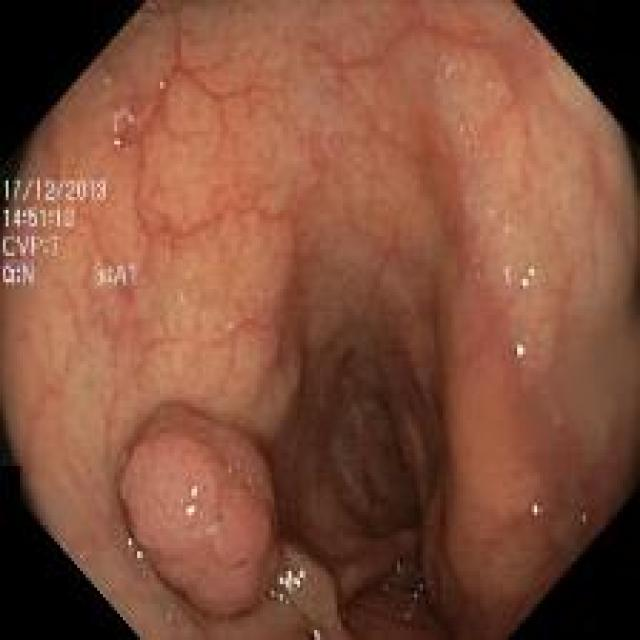Polyps: (120, 406, 281, 618)
